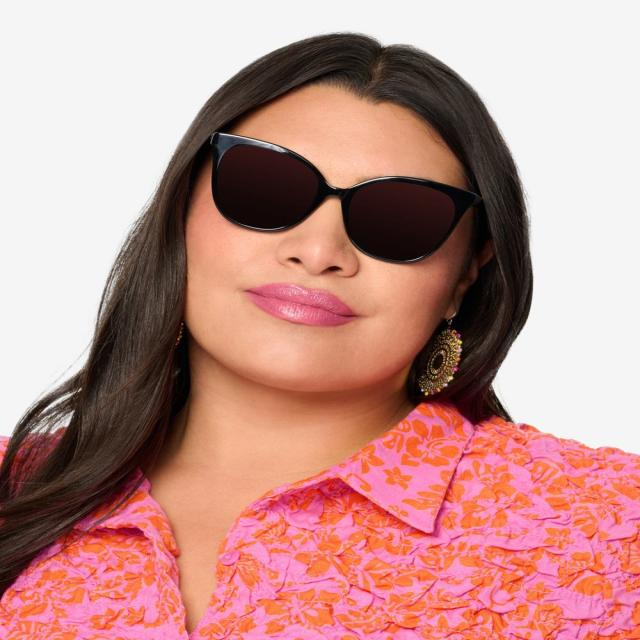2_gafas: (207, 130, 483, 265)
